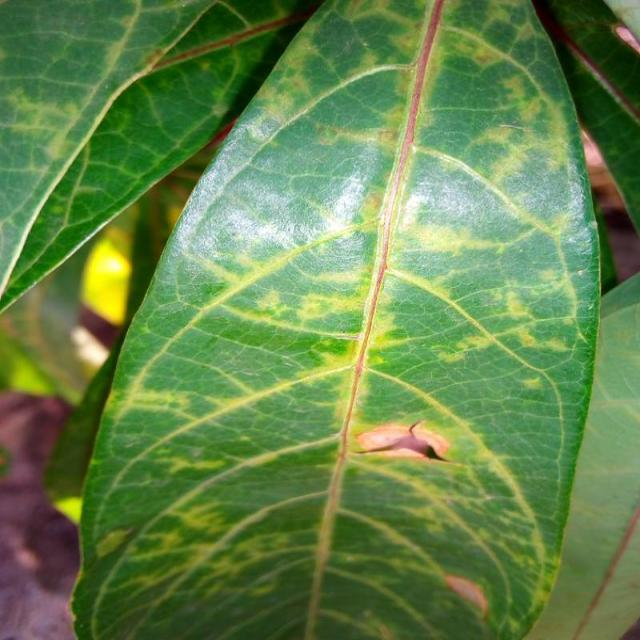cassava leaf: (67, 0, 602, 638)
